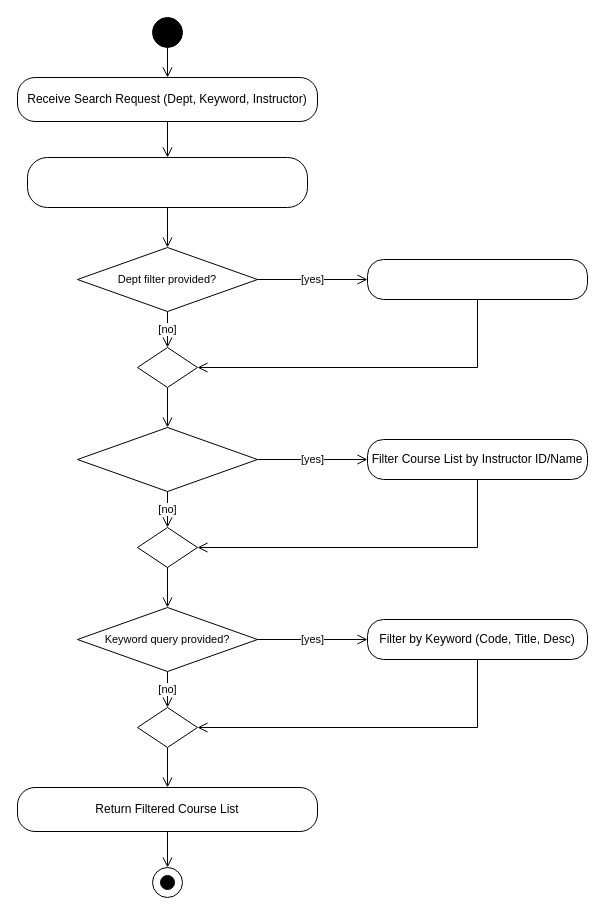
The diagram is 605 pixels wide and 915 high, and some of its shapes have lost their labels. The shapes that lost their labels are listed below. From the top down, each one's centre as x and y in pixels, then its label:
the point at 167,182: Retrieve All Courses from CourseRepository
the point at 477,279: Filter Course List by Department
the point at 167,459: Instructor filter provided?
